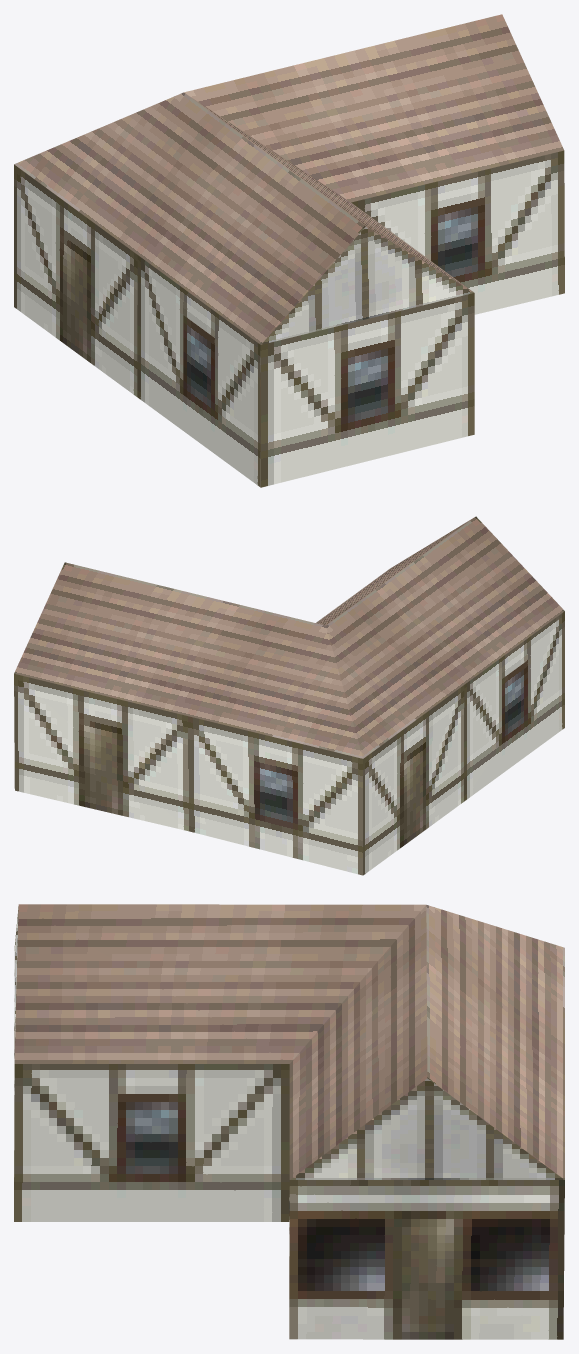
Rendered from house.glb.
3 renders of one model, top to bottom at view 1: azimuth 30°, elevation 25°; view 2: azimuth 150°, elevation 25°; view 3: azimuth 270°, elevation 25°, orthographic. The views are drawn at different scales.
Parts seen in each view (by area): view 1: house; view 2: house; view 3: house.
Part boxes in pixels (box(x1,y1,x2,y2)): house: box(14, 14, 564, 487); house: box(14, 516, 564, 875); house: box(14, 904, 564, 1339).
Bounding box in the file's own units: 1826 × 957 × 1828.
4 materials, 4 textured.
